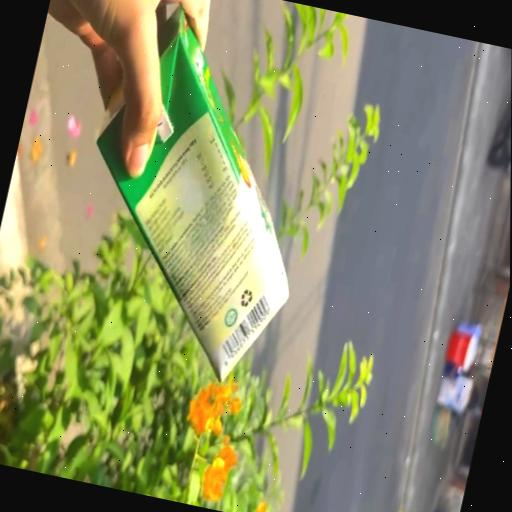ly_giay: (96, 6, 287, 380)
